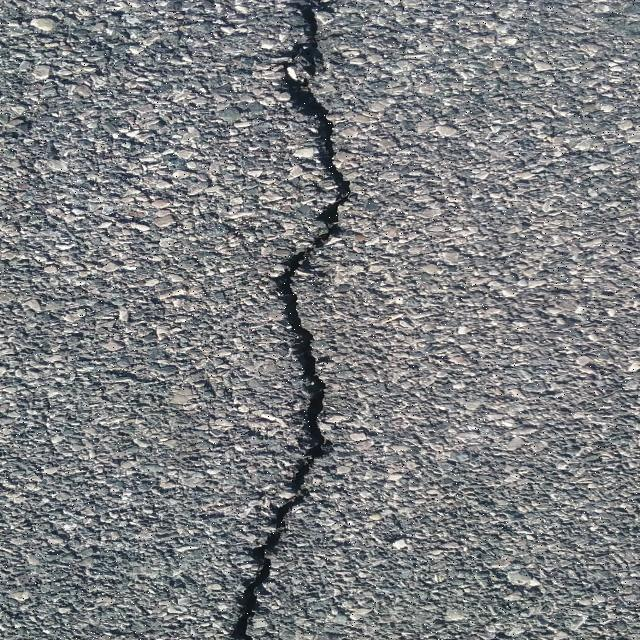Crack: (228, 0, 353, 640)
